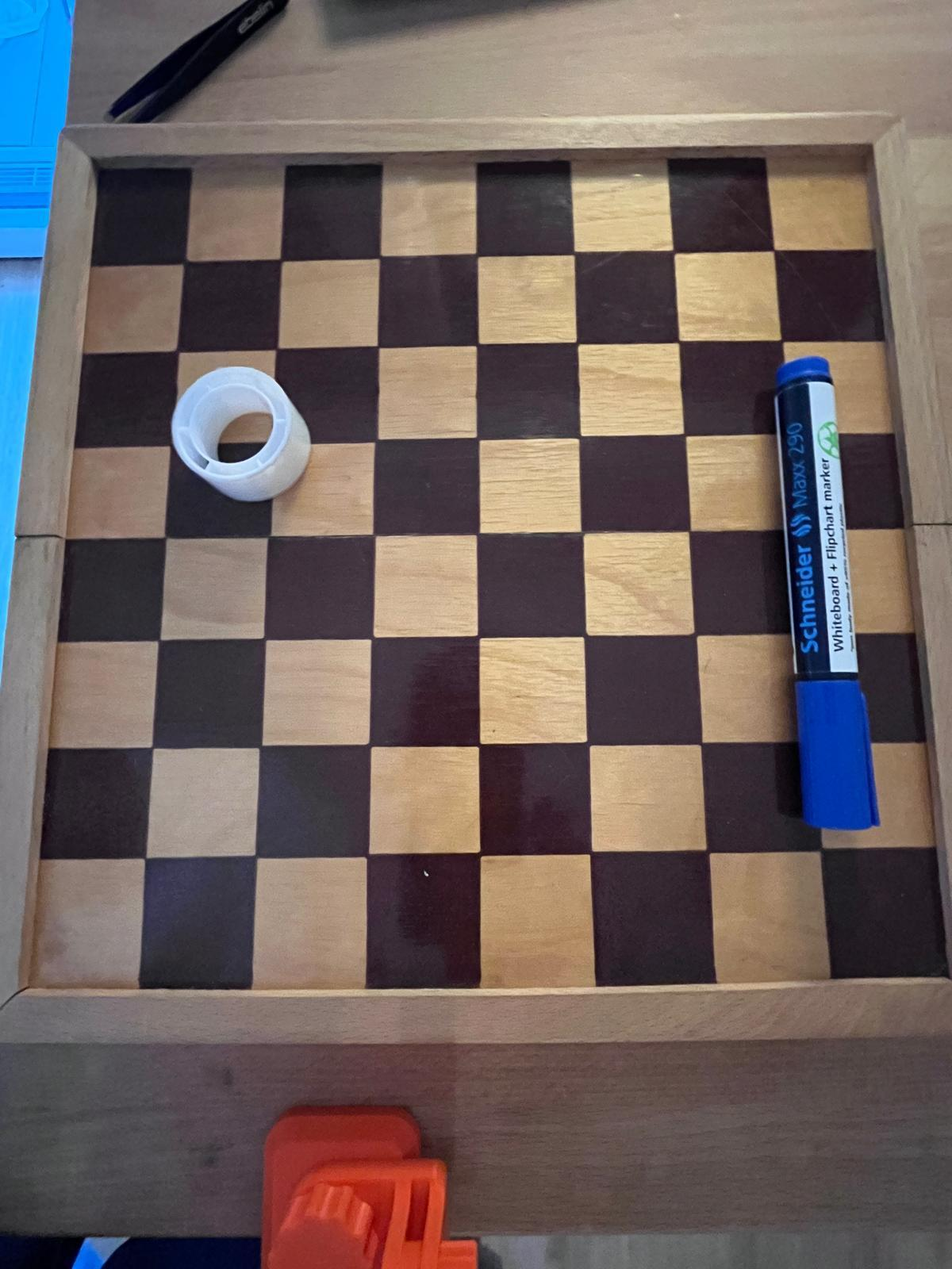marker: (774, 355, 889, 847)
tape: (168, 362, 313, 503)
